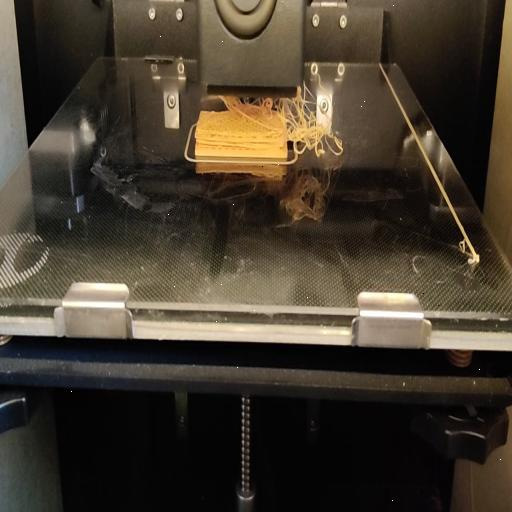spaghetti: (288, 81, 344, 162)
